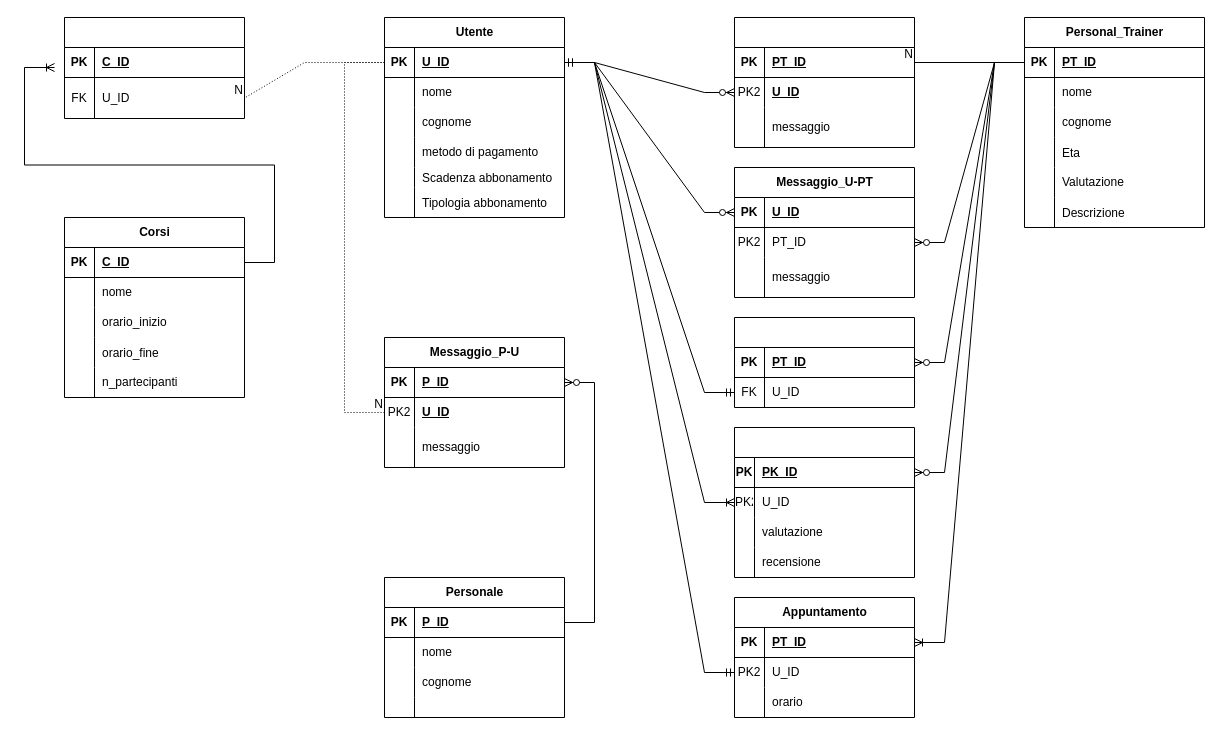
The diagram is 1222 pixels wide and 735 high, and some of its shapes have lost their labels. Each missing label, with the box of its shape:
Affiliazzione: (734, 316, 914, 408)
Messaggio_PT-U: (734, 16, 914, 148)
Partecipazione: (64, 16, 244, 118)
Recensioni: (734, 426, 914, 578)
